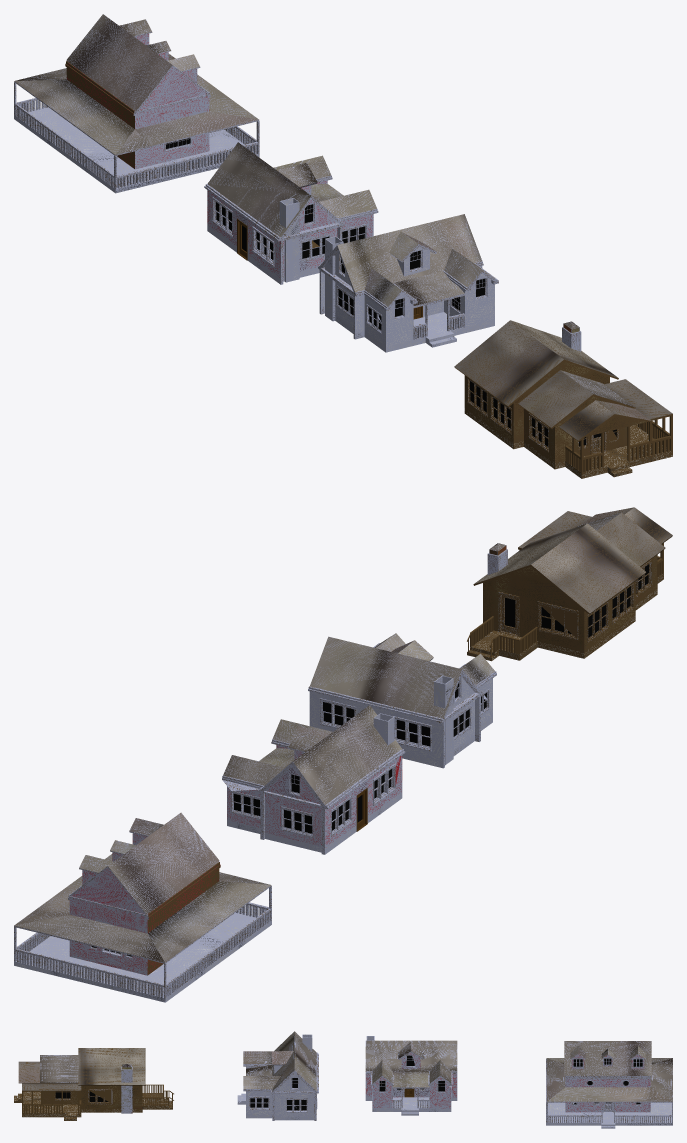
The model's file is TownBuildings.FBX.
The picture shows the model from 3 angles, top to bottom: view 1: azimuth 30°, elevation 25°; view 2: azimuth 150°, elevation 25°; view 3: azimuth 270°, elevation 25°; orthographic projection. The views are drawn at different scales.
Parts seen in each view (by area): view 1: Town_House_4__Lod:0, Town_House_1__Lod:1, Town_House_1__Lod:0, Town_House_2__Lod:1, Town_House_4__Lod:1, Town_House_3__Lod:1, Town_House_2__Lod:0, Town_House_3__Lod:0; view 2: Town_House_4__Lod:0, Town_House_1__Lod:1, Town_House_4__Lod:1, Town_House_2__Lod:1, Town_House_3__Lod:0, Town_House_1__Lod:0, Town_House_3__Lod:1, Town_House_2__Lod:0; view 3: Town_House_4__Lod:0, Town_House_1__Lod:0, Town_House_1__Lod:1, Town_House_3__Lod:1, Town_House_2__Lod:0, Town_House_3__Lod:0, Town_House_4__Lod:1, Town_House_2__Lod:1.
Boxes of the visible parts, left/top/right/bottom form: Town_House_4__Lod:0: left=14, top=14, right=259, bottom=192; Town_House_1__Lod:1: left=457, top=320, right=672, bottom=478; Town_House_1__Lod:0: left=454, top=321, right=672, bottom=478; Town_House_2__Lod:1: left=319, top=214, right=495, bottom=352; Town_House_4__Lod:1: left=14, top=14, right=259, bottom=193; Town_House_3__Lod:1: left=204, top=142, right=378, bottom=284; Town_House_2__Lod:0: left=318, top=231, right=498, bottom=344; Town_House_3__Lod:0: left=204, top=162, right=377, bottom=284; Town_House_4__Lod:0: left=14, top=813, right=271, bottom=1001; Town_House_1__Lod:1: left=467, top=510, right=672, bottom=660; Town_House_4__Lod:1: left=14, top=813, right=271, bottom=1002; Town_House_2__Lod:1: left=308, top=633, right=496, bottom=765; Town_House_3__Lod:0: left=222, top=705, right=404, bottom=854; Town_House_1__Lod:0: left=467, top=507, right=672, bottom=661; Town_House_3__Lod:1: left=222, top=713, right=405, bottom=844; Town_House_2__Lod:0: left=308, top=641, right=496, bottom=768; Town_House_4__Lod:0: left=546, top=1046, right=672, bottom=1128; Town_House_1__Lod:0: left=14, top=1059, right=173, bottom=1120; Town_House_1__Lod:1: left=14, top=1048, right=173, bottom=1118; Town_House_3__Lod:1: left=365, top=1036, right=457, bottom=1115; Town_House_2__Lod:0: left=237, top=1039, right=318, bottom=1120; Town_House_3__Lod:0: left=365, top=1041, right=457, bottom=1115; Town_House_4__Lod:1: left=546, top=1041, right=671, bottom=1128; Town_House_2__Lod:1: left=243, top=1031, right=317, bottom=1111.
Bounding box in the file's own units: 563 × 3327 × 348.
Materials: 11 (6 with a texture image).
